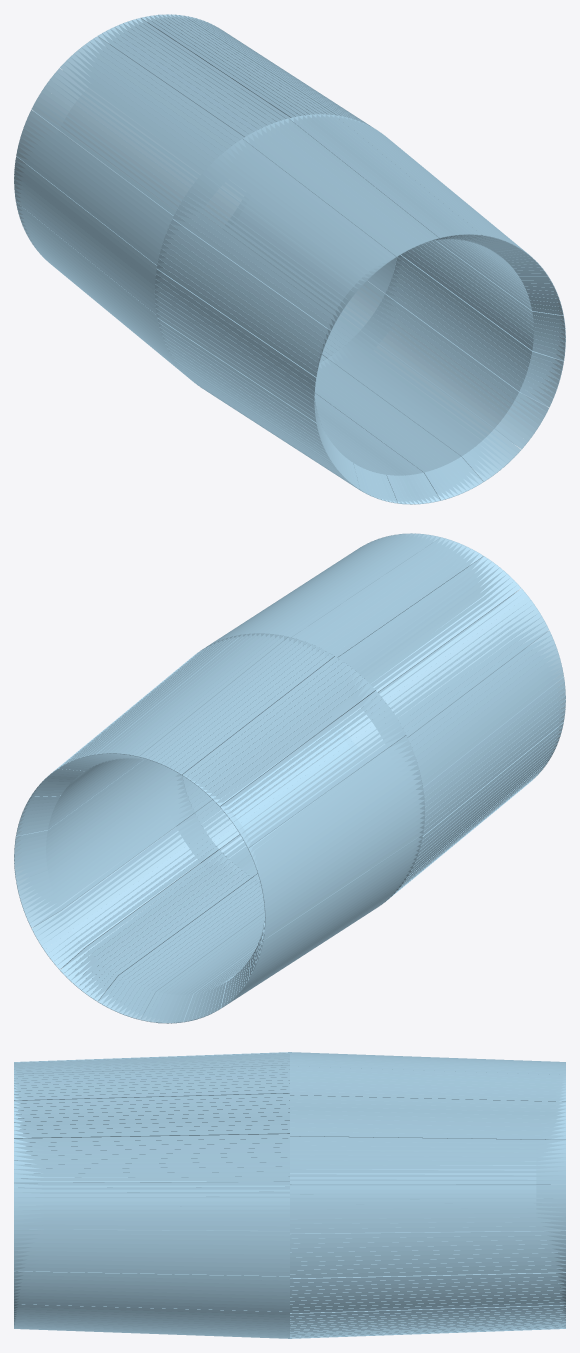
3 renders of one model, top to bottom at view 1: azimuth 30°, elevation 25°; view 2: azimuth 150°, elevation 25°; view 3: azimuth 270°, elevation 25°, orthographic. The views are drawn at different scales.
Parts seen in each view (by area): view 1: Mesh681 eregalgo_EFAW_materials_E_Air340 lp_eregalgo_EFAW341, Mesh199 eregalgo_EFAW_materials_E_Air99 lp_eregalgo_EFAW100 , Mesh519 eregalgo_EFAW_materials_E_Air259 lp_eregalgo_EFAW260, Mesh651 eregalgo_EFAW_materials_E_Air325 lp_eregalgo_EFAW326, Mesh649 eregalgo_EFAW_materials_E_Air324 lp_eregalgo_EFAW325, Mesh641 eregalgo_EFAW_materials_E_Air320 lp_eregalgo_EFAW321, Mesh647 eregalgo_EFAW_materials_E_Air323 lp_eregalgo_EFAW324, Mesh683 eregalgo_EFAW_materials_E_Air341 lp_eregalgo_EFAW342, Mesh643 eregalgo_EFAW_materials_E_Air321 lp_eregalgo_EFAW322, Mesh685 eregalgo_EFAW_materials_E_Air342 lp_eregalgo_EFAW343, Mesh659 eregalgo_EFAW_materials_E_Air329 lp_eregalgo_EFAW330, Mesh33 eregalgo_EFAW_materials_E_Air16 lp_eregalgo_EFAW17 Mo (+168 smaller); view 2: Mesh519 eregalgo_EFAW_materials_E_Air259 lp_eregalgo_EFAW260, Mesh33 eregalgo_EFAW_materials_E_Air16 lp_eregalgo_EFAW17 Mo, Mesh623 eregalgo_EFAW_materials_E_Air311 lp_eregalgo_EFAW312, Mesh625 eregalgo_EFAW_materials_E_Air312 lp_eregalgo_EFAW313, Mesh621 eregalgo_EFAW_materials_E_Air310 lp_eregalgo_EFAW311, Mesh635 eregalgo_EFAW_materials_E_Air317 lp_eregalgo_EFAW318, Mesh637 eregalgo_EFAW_materials_E_Air318 lp_eregalgo_EFAW319, Mesh517 eregalgo_EFAW_materials_E_Air258 lp_eregalgo_EFAW259, Mesh639 eregalgo_EFAW_materials_E_Air319 lp_eregalgo_EFAW320, Mesh681 eregalgo_EFAW_materials_E_Air340 lp_eregalgo_EFAW341, Mesh515 eregalgo_EFAW_materials_E_Air257 lp_eregalgo_EFAW258, Mesh633 eregalgo_EFAW_materials_E_Air316 lp_eregalgo_EFAW317 (+167 smaller); view 3: Mesh257 eregalgo_EFAW_materials_E_Air128 lp_eregalgo_EFAW129, Mesh429 eregalgo_EFAW_materials_E_Air214 lp_eregalgo_EFAW215, Mesh381 eregalgo_EFAW_materials_E_Air190 lp_eregalgo_EFAW191, Mesh419 eregalgo_EFAW_materials_E_Air209 lp_eregalgo_EFAW210, Mesh159 eregalgo_EFAW_materials_E_Air79 lp_eregalgo_EFAW80 M, Mesh461 eregalgo_EFAW_materials_E_Air230 lp_eregalgo_EFAW231, Mesh259 eregalgo_EFAW_materials_E_Air129 lp_eregalgo_EFAW130, Mesh431 eregalgo_EFAW_materials_E_Air215 lp_eregalgo_EFAW216, Mesh401 eregalgo_EFAW_materials_E_Air200 lp_eregalgo_EFAW201, Mesh383 eregalgo_EFAW_materials_E_Air191 lp_eregalgo_EFAW192, Mesh385 eregalgo_EFAW_materials_E_Air192 lp_eregalgo_EFAW193, Mesh251 eregalgo_EFAW_materials_E_Air125 lp_eregalgo_EFAW126 (+152 smaller).
Part boxes in pixels (bbox=[...]): Mesh681 eregalgo_EFAW_materials_E_Air340 lp_eregalgo_EFAW341: bbox=[202, 169, 362, 288]; Mesh199 eregalgo_EFAW_materials_E_Air99 lp_eregalgo_EFAW100 : bbox=[170, 219, 330, 335]; Mesh519 eregalgo_EFAW_materials_E_Air259 lp_eregalgo_EFAW260: bbox=[60, 64, 220, 185]; Mesh651 eregalgo_EFAW_materials_E_Air325 lp_eregalgo_EFAW326: bbox=[186, 190, 346, 309]; Mesh649 eregalgo_EFAW_materials_E_Air324 lp_eregalgo_EFAW325: bbox=[183, 195, 343, 313]; Mesh641 eregalgo_EFAW_materials_E_Air320 lp_eregalgo_EFAW321: bbox=[172, 214, 333, 330]; Mesh647 eregalgo_EFAW_materials_E_Air323 lp_eregalgo_EFAW324: bbox=[180, 200, 340, 317]; Mesh683 eregalgo_EFAW_materials_E_Air341 lp_eregalgo_EFAW342: bbox=[206, 165, 365, 285]; Mesh643 eregalgo_EFAW_materials_E_Air321 lp_eregalgo_EFAW322: bbox=[175, 209, 335, 326]; Mesh685 eregalgo_EFAW_materials_E_Air342 lp_eregalgo_EFAW343: bbox=[210, 162, 369, 281]; Mesh659 eregalgo_EFAW_materials_E_Air329 lp_eregalgo_EFAW330: bbox=[199, 174, 358, 293]; Mesh33 eregalgo_EFAW_materials_E_Air16 lp_eregalgo_EFAW17 Mo: bbox=[29, 110, 184, 223]; Mesh519 eregalgo_EFAW_materials_E_Air259 lp_eregalgo_EFAW260: bbox=[216, 686, 375, 806]; Mesh33 eregalgo_EFAW_materials_E_Air16 lp_eregalgo_EFAW17 Mo: bbox=[248, 735, 408, 852]; Mesh623 eregalgo_EFAW_materials_E_Air311 lp_eregalgo_EFAW312: bbox=[223, 694, 382, 814]; Mesh625 eregalgo_EFAW_materials_E_Air312 lp_eregalgo_EFAW313: bbox=[226, 699, 385, 818]; Mesh621 eregalgo_EFAW_materials_E_Air310 lp_eregalgo_EFAW311: bbox=[220, 691, 379, 810]; Mesh635 eregalgo_EFAW_materials_E_Air317 lp_eregalgo_EFAW318: bbox=[240, 721, 400, 839]; Mesh637 eregalgo_EFAW_materials_E_Air318 lp_eregalgo_EFAW319: bbox=[243, 725, 403, 843]; Mesh517 eregalgo_EFAW_materials_E_Air258 lp_eregalgo_EFAW259: bbox=[212, 682, 371, 802]; Mesh639 eregalgo_EFAW_materials_E_Air319 lp_eregalgo_EFAW320: bbox=[245, 730, 405, 847]; Mesh681 eregalgo_EFAW_materials_E_Air340 lp_eregalgo_EFAW341: bbox=[363, 584, 520, 699]; Mesh515 eregalgo_EFAW_materials_E_Air257 lp_eregalgo_EFAW258: bbox=[209, 679, 367, 799]; Mesh633 eregalgo_EFAW_materials_E_Air316 lp_eregalgo_EFAW317: bbox=[238, 716, 398, 834]; Mesh257 eregalgo_EFAW_materials_E_Air128 lp_eregalgo_EFAW129: bbox=[290, 1189, 565, 1194]; Mesh429 eregalgo_EFAW_materials_E_Air214 lp_eregalgo_EFAW215: bbox=[14, 1201, 289, 1206]; Mesh381 eregalgo_EFAW_materials_E_Air190 lp_eregalgo_EFAW191: bbox=[290, 1179, 565, 1184]; Mesh419 eregalgo_EFAW_materials_E_Air209 lp_eregalgo_EFAW210: bbox=[14, 1176, 289, 1183]; Mesh159 eregalgo_EFAW_materials_E_Air79 lp_eregalgo_EFAW80 M: bbox=[290, 1230, 565, 1238]; Mesh461 eregalgo_EFAW_materials_E_Air230 lp_eregalgo_EFAW231: bbox=[14, 1229, 289, 1236]; Mesh259 eregalgo_EFAW_materials_E_Air129 lp_eregalgo_EFAW130: bbox=[290, 1184, 565, 1189]; Mesh431 eregalgo_EFAW_materials_E_Air215 lp_eregalgo_EFAW216: bbox=[14, 1206, 289, 1211]; Mesh401 eregalgo_EFAW_materials_E_Air200 lp_eregalgo_EFAW201: bbox=[14, 1134, 289, 1142]; Mesh383 eregalgo_EFAW_materials_E_Air191 lp_eregalgo_EFAW192: bbox=[290, 1174, 565, 1179]; Mesh385 eregalgo_EFAW_materials_E_Air192 lp_eregalgo_EFAW193: bbox=[290, 1169, 565, 1175]; Mesh251 eregalgo_EFAW_materials_E_Air125 lp_eregalgo_EFAW126: bbox=[290, 1203, 565, 1209].
Size of the model in its own units: 3.16 by 3.16 by 6.09.
